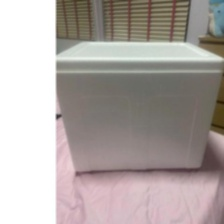foam_box: (55, 36, 223, 177)
